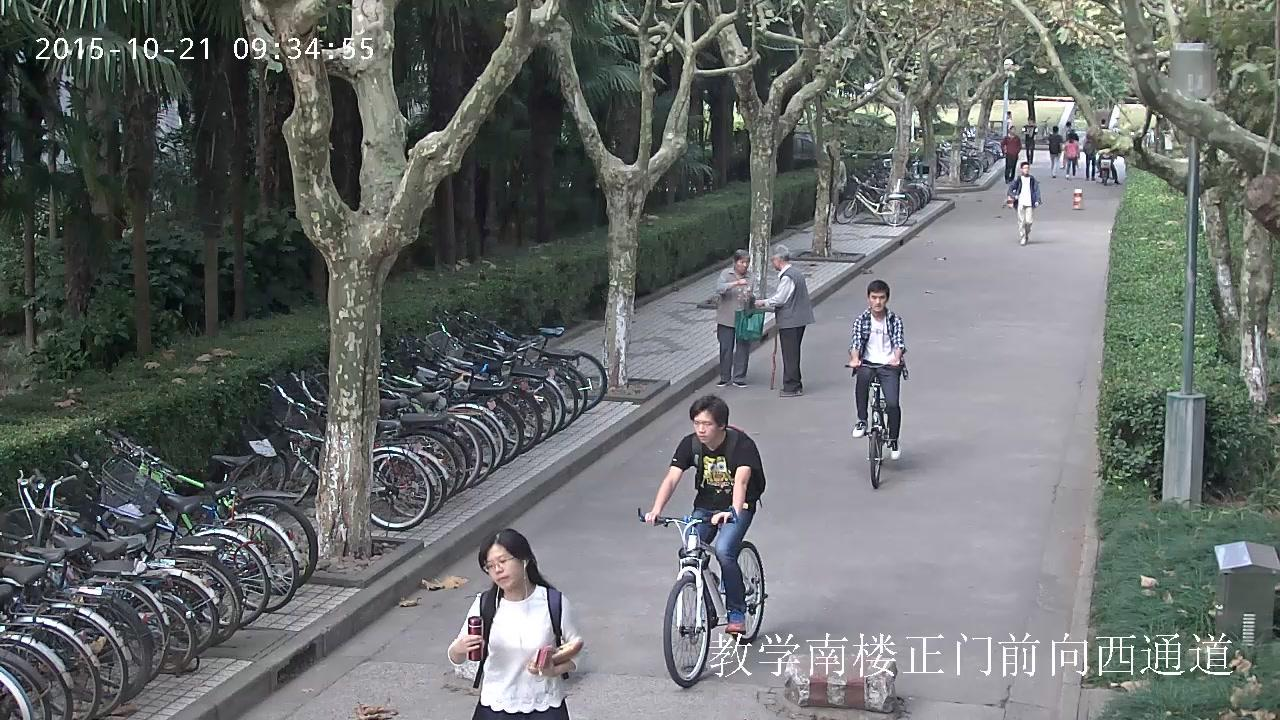face: (486, 543, 522, 591), (693, 409, 718, 442), (869, 291, 886, 313), (736, 254, 748, 274), (771, 257, 778, 272), (1023, 165, 1028, 175), (1010, 126, 1015, 133), (1008, 112, 1011, 118), (1028, 119, 1032, 123), (1067, 125, 1070, 129)
